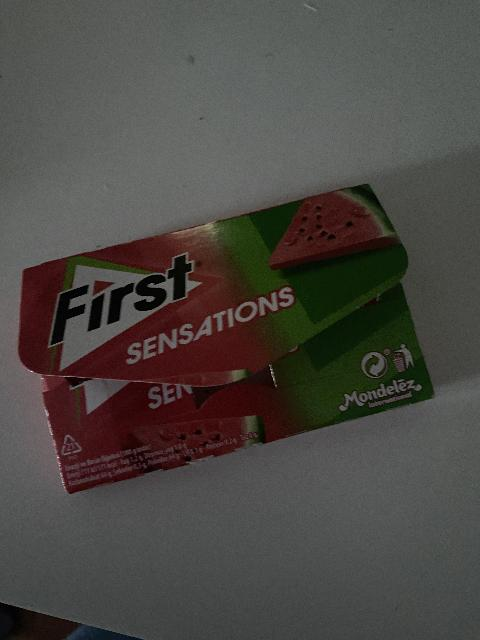Kagit: (8, 160, 430, 492)
